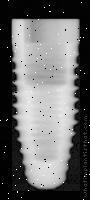Nobel Biocare: (10, 19, 80, 191)
